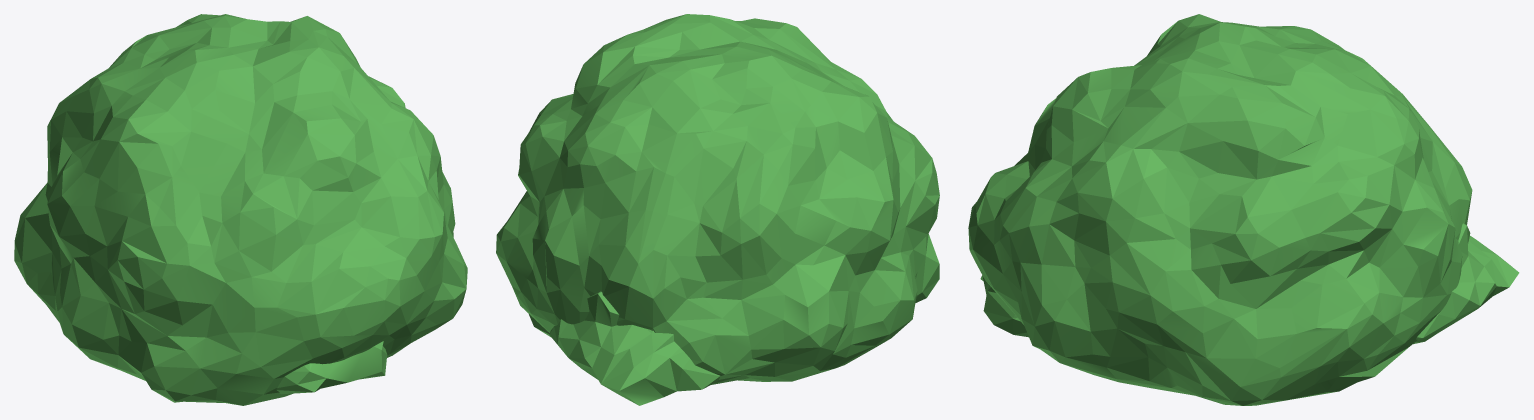
Rendered from BushMeshs.fbx.
The picture shows the model from 3 angles, left to right: view 1: azimuth 30°, elevation 25°; view 2: azimuth 150°, elevation 25°; view 3: azimuth 270°, elevation 25°; orthographic projection. The views are drawn at different scales.
Parts seen in each view (by area): view 1: Big_Bush, Long_Bush; view 2: Big_Bush, Long_Bush; view 3: Big_Bush, Long_Bush.
Boxes of the visible parts, x1,y1,x2,y2 form: Big_Bush: (14, 14, 467, 405); Long_Bush: (276, 341, 387, 394); Big_Bush: (496, 14, 939, 384); Long_Bush: (549, 291, 720, 405); Big_Bush: (968, 14, 1472, 405); Long_Bush: (980, 223, 1519, 344).
Size of the model in its own units: 24.38 by 18.51 by 30.46.
